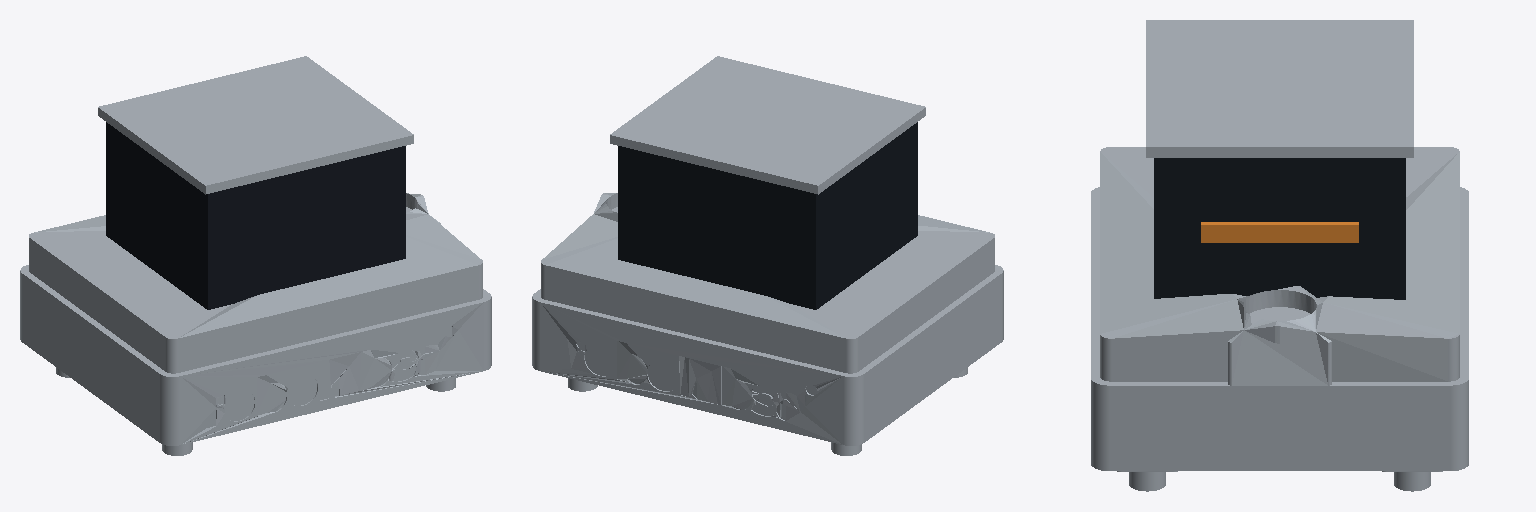
The robot description file, URDF, robot "cdr01_visual_cad_assembly":
<?xml version="1.0"?>
<!-- Delivery visualization assembly, NOT validated mechanical CAD or a physics model.
     Chassis and wheels: rlxai/rbot, Apache-2.0.
     See dashboard/assets/SOURCES.md and integrations/upstream_samples/rbot-nav2/LICENSE.
     Scales/placement adapt source millimetres to illustrative CDR dimensions.
     Fixed wheel joints avoid fabricating joint-state telemetry. -->
<robot name="cdr01_visual_cad_assembly">
 <material name="shell"><color rgba="0.70 0.73 0.76 1"/></material>
 <material name="cargo"><color rgba="0.13 0.15 0.18 1"/></material>
 <material name="rubber"><color rgba="0.10 0.11 0.12 1"/></material>
 <material name="amber"><color rgba="0.90 0.57 0.24 1"/></material>
 <link name="base_link">
  <visual><origin xyz="0 0 0.17"/><geometry><mesh filename="rbot-chassis.stl" scale="0.0012 0.0012 0.0012"/></geometry><material name="shell"/></visual>
 </link>
 <link name="cargo_box">
  <visual><origin xyz="0 0 0.44"/><geometry><box size="0.36 0.32 0.24"/></geometry><material name="cargo"/></visual>
  <visual><origin xyz="0 0 0.565"/><geometry><box size="0.38 0.34 0.015"/></geometry><material name="shell"/></visual>
  <visual><origin xyz="0.183 0 0.45"/><geometry><box size="0.008 0.20 0.025"/></geometry><material name="amber"/></visual>
 </link>
 <joint name="cargo_fixed" type="fixed"><parent link="base_link"/><child link="cargo_box"/></joint>
 <link name="left_wheel"><visual><origin rpy="1.57079632679 0 0"/><geometry><mesh filename="rbot-wheel.stl" scale="0.00176 0.00176 0.00176"/></geometry><material name="rubber"/></visual></link>
 <link name="right_wheel"><visual><origin rpy="1.57079632679 0 0"/><geometry><mesh filename="rbot-wheel.stl" scale="0.00176 0.00176 0.00176"/></geometry><material name="rubber"/></visual></link>
 <joint name="left_wheel_fixed" type="fixed"><parent link="base_link"/><child link="left_wheel"/><origin xyz="0 0.25 0.11"/></joint>
 <joint name="right_wheel_fixed" type="fixed"><parent link="base_link"/><child link="right_wheel"/><origin xyz="0 -0.25 0.11"/></joint>
</robot>

--- Facts derived from the render (not from the file) ---
3 views of the same robot in one strip: view 1: azimuth 30°, elevation 25°; view 2: azimuth 150°, elevation 25°; view 3: azimuth 270°, elevation 25° (orthographic).
Model cdr01_visual_cad_assembly with 4 links and 3 joints (3 fixed), rooted at base_link, posed all joints at 0.
Visible links, largest first — view 1: base_link, cargo_box; view 2: base_link, cargo_box; view 3: base_link, cargo_box.
Link boxes in pixels (x1,y1,x2,y2): base_link: (20, 193, 491, 455); cargo_box: (98, 56, 413, 309); base_link: (532, 193, 1003, 455); cargo_box: (610, 56, 925, 309); base_link: (1091, 147, 1468, 491); cargo_box: (1146, 20, 1413, 299).
Bounding box of the posed robot: 0.6024 × 0.48 × 0.4475 m (x, y, z).
Meshes: 2 distinct files referenced, 1 mesh visuals loaded (1 binary STL); not drawn: 2 (reference not matched to a file when rendering).
